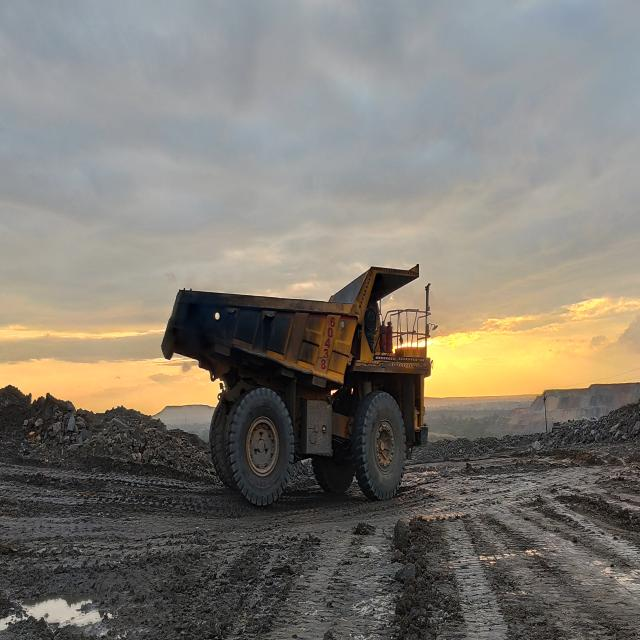dump_truck: (161, 264, 431, 504)
